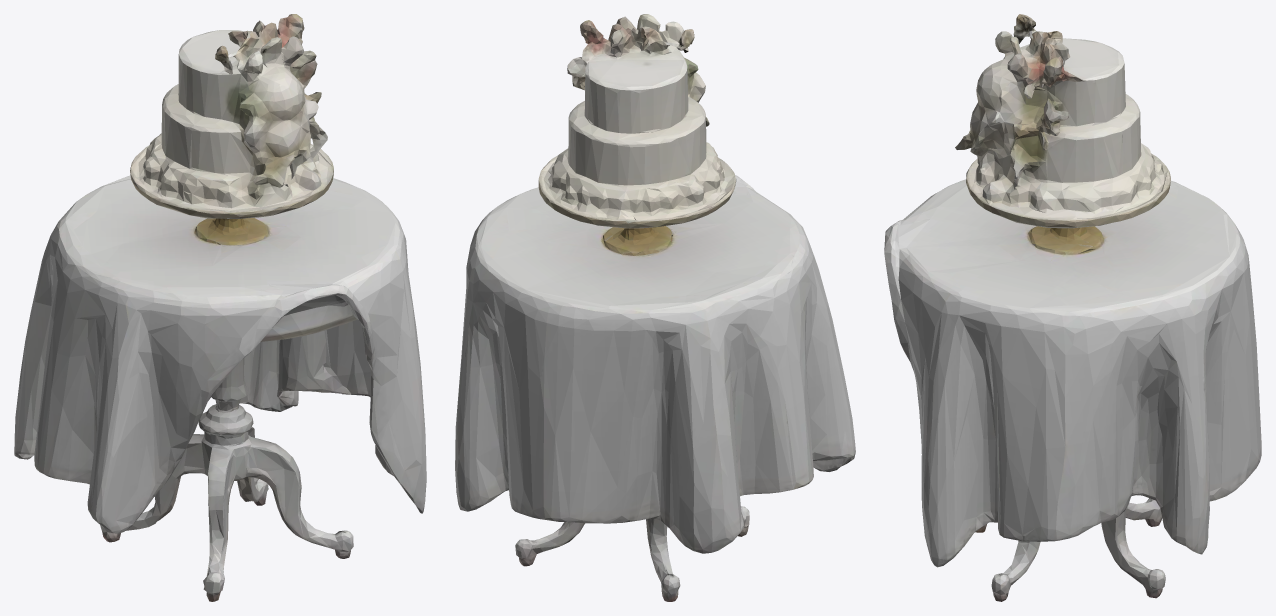
Rendered from side_table_cake.glb.
The picture shows the model from 3 angles, left to right: view 1: azimuth 30°, elevation 25°; view 2: azimuth 150°, elevation 25°; view 3: azimuth 270°, elevation 25°; orthographic projection. The views are drawn at different scales.
Visible parts, largest first — view 1: geometry_0; view 2: geometry_0; view 3: geometry_0.
Part boxes in pixels (x1,y1,x2,y2): geometry_0: [14, 14, 426, 601]; geometry_0: [455, 14, 855, 601]; geometry_0: [884, 14, 1261, 601].
Bounding box in the file's own units: 0.7003 × 0.9991 × 0.6424.
1 material, 1 textured.
